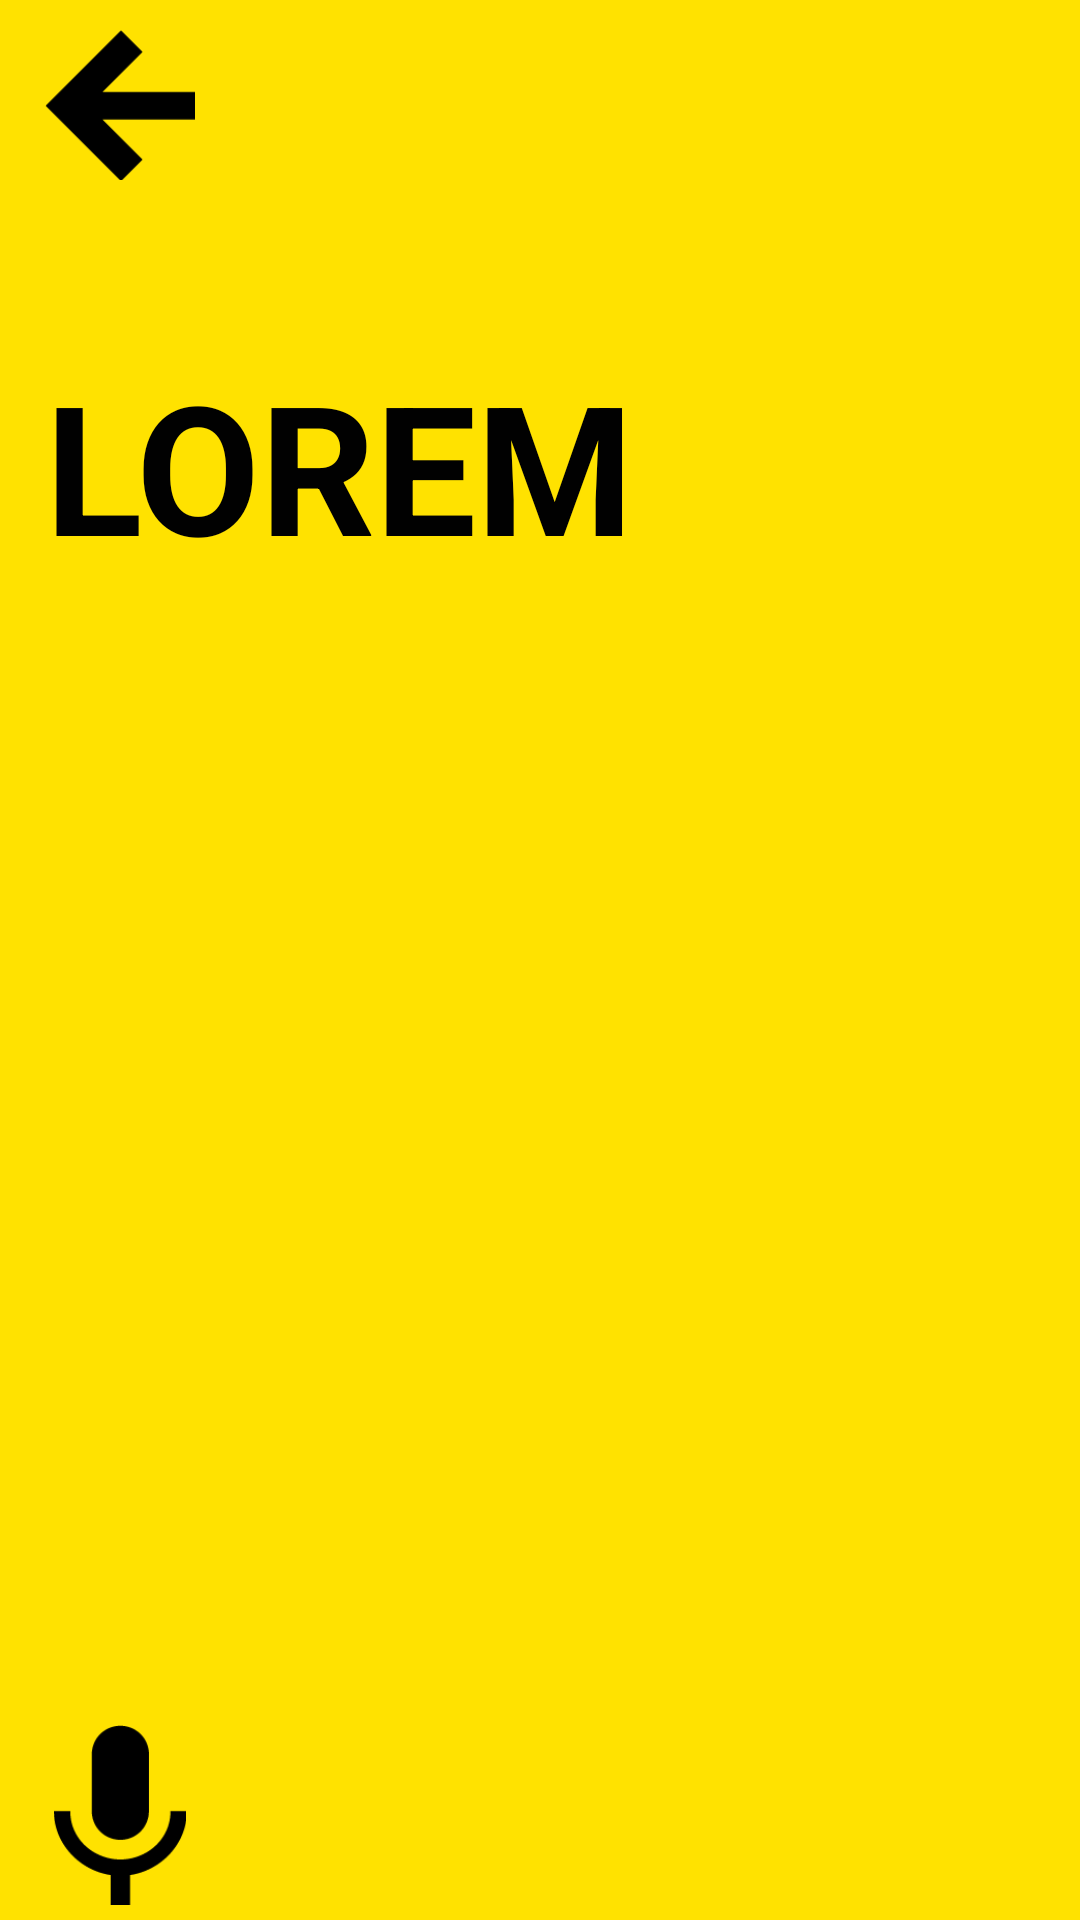

Icons on this 1080px x 1920px Android screen, each with its box as Rect(x1, y1, x2, y2):
back: Rect(46, 30, 195, 180)
record: Rect(54, 1725, 186, 1905)
